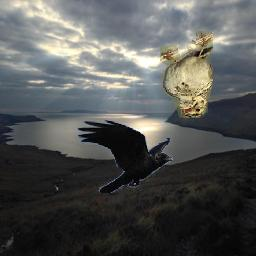Crow: (77, 119, 174, 194)
Sparrow: (161, 32, 214, 119)
